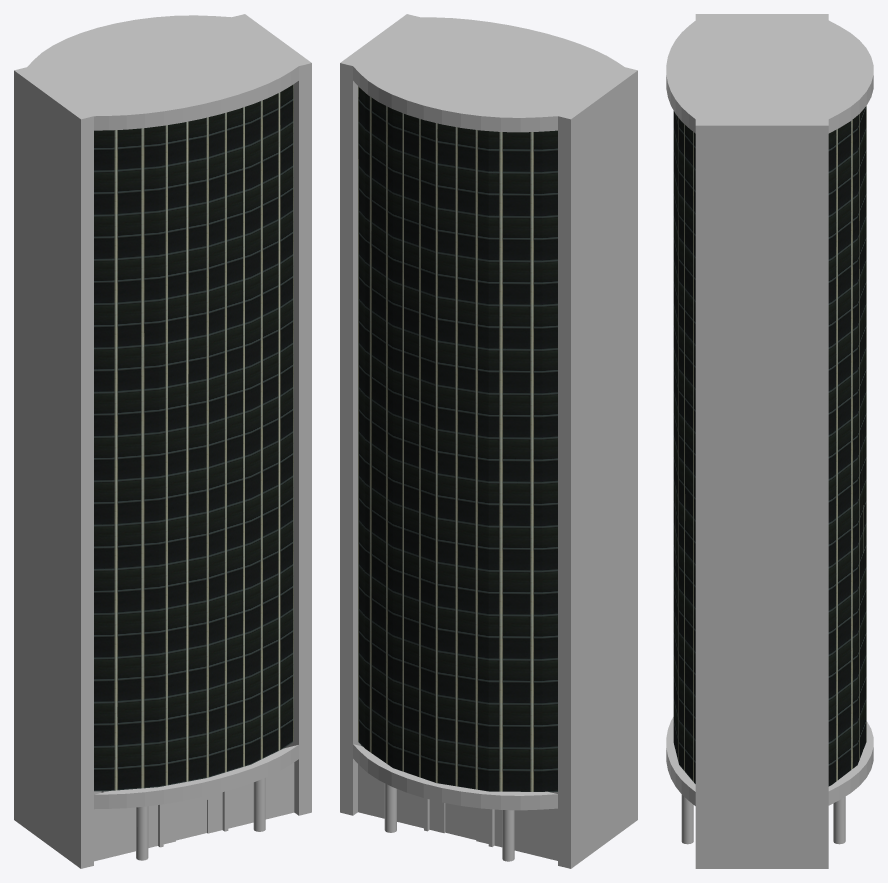
The picture shows the model from 3 angles, left to right: view 1: azimuth 30°, elevation 25°; view 2: azimuth 150°, elevation 25°; view 3: azimuth 270°, elevation 25°; orthographic projection.
Visible parts, largest first — view 1: BC-039; view 2: BC-039; view 3: BC-039.
Boxes of the visible parts, box(x1,y1,x2,y2) form: BC-039: box(14, 14, 311, 868); BC-039: box(340, 14, 637, 868); BC-039: box(666, 14, 873, 868).
Size of what is drawn, in the model's own units: 17.09 by 53 by 13.4.
